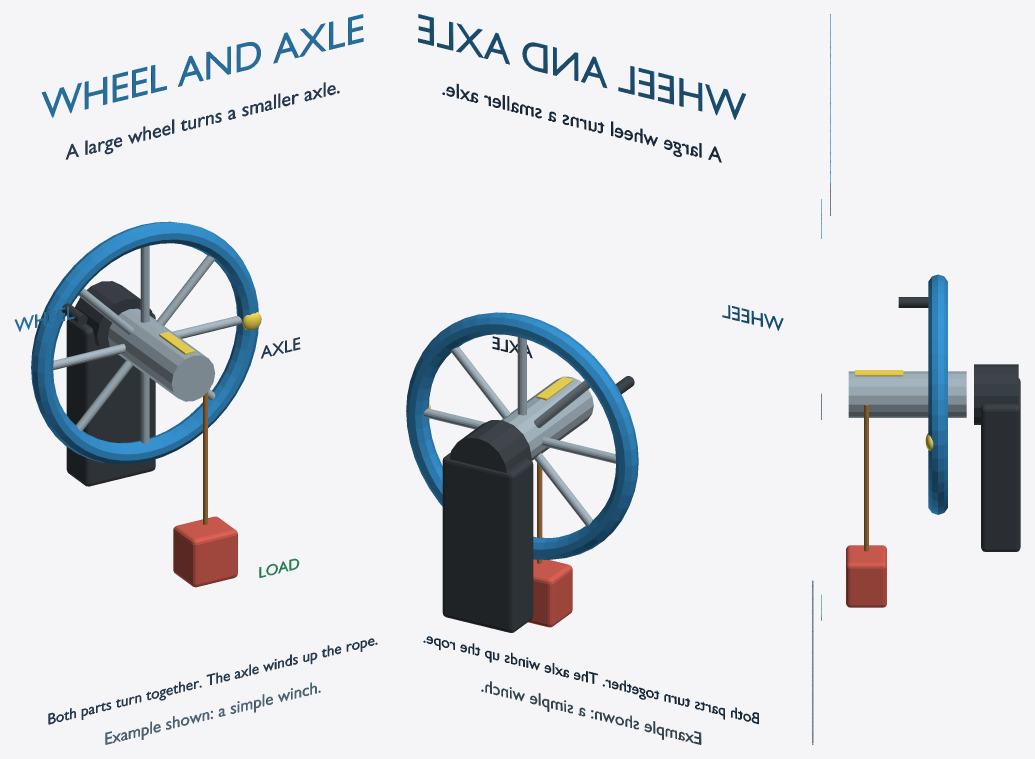
The picture shows the model from 3 angles, left to right: view 1: azimuth 30°, elevation 25°; view 2: azimuth 150°, elevation 25°; view 3: azimuth 270°, elevation 25°; orthographic projection. The views are drawn at different scales.
Visible parts, largest first — view 1: Large turning wheel, Bearing support, Smaller axle, Lifted box, WHEEL AND AXLE, Bearing, Both parts turn together. The axle winds up the rope., A large wheel turns a smaller axle., Example shown: a simple winch., Wheel spoke.001, Wheel spoke.005, Wheel spoke.002 (+5 smaller); view 2: Bearing support, Large turning wheel, WHEEL AND AXLE, Smaller axle, Bearing, Lifted box, Both parts turn together. The axle winds up the rope., A large wheel turns a smaller axle., Example shown: a simple winch., Wheel spoke.001, Wheel spoke.005, Wheel spoke.002 (+2 smaller); view 3: Bearing support, Large turning wheel, Smaller axle, Lifted box, Bearing, Rope wound on axle.
Part boxes in pixels (x1,y1,x2,y2): Large turning wheel: (31, 221, 258, 464); Bearing support: (66, 313, 155, 486); Smaller axle: (108, 308, 215, 401); Lifted box: (173, 516, 237, 587); WHEEL AND AXLE: (41, 14, 363, 117); Bearing: (75, 281, 153, 358); Both parts turn together. The axle winds up the rope.: (48, 638, 377, 724); A large wheel turns a smaller axle.: (65, 82, 339, 159); Example shown: a simple winch.: (105, 682, 320, 744); Wheel spoke.001: (156, 255, 215, 325); Wheel spoke.005: (76, 359, 132, 431); Wheel spoke.002: (140, 245, 149, 322); Bearing support: (442, 452, 533, 632); Large turning wheel: (406, 312, 638, 559); WHEEL AND AXLE: (418, 14, 745, 119); Smaller axle: (501, 376, 593, 460); Bearing: (449, 420, 531, 472); Lifted box: (528, 559, 572, 627); Both parts turn together. The axle winds up the rope.: (423, 636, 758, 724); A large wheel turns a smaller axle.: (442, 83, 721, 162); Example shown: a simple winch.: (481, 681, 701, 744); Wheel spoke.001: (451, 347, 510, 418); Wheel spoke.005: (534, 453, 592, 526); Wheel spoke.002: (517, 337, 526, 415); Bearing support: (981, 378, 1020, 551); Large turning wheel: (928, 274, 947, 514); Smaller axle: (848, 371, 966, 417); Lifted box: (846, 545, 886, 607); Bearing: (974, 364, 1018, 424); Rope wound on axle: (864, 404, 868, 551).
Size of the model in its own units: 4.27 by 7.56 by 2.32.
